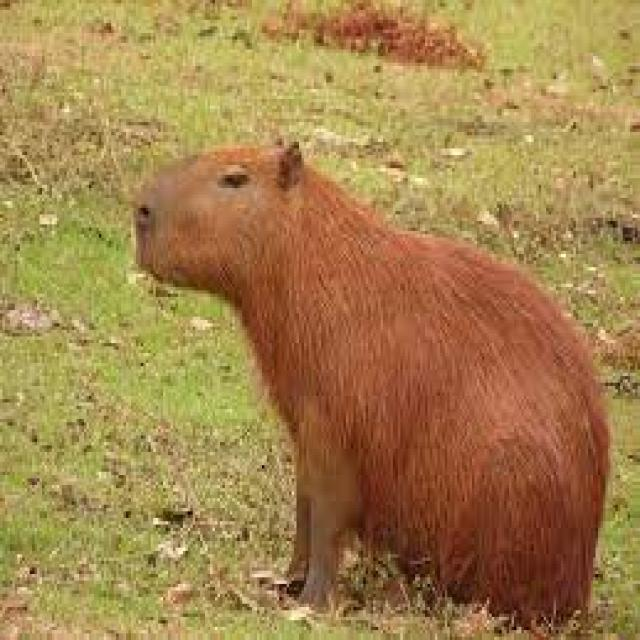capy: (133, 137, 609, 629)
